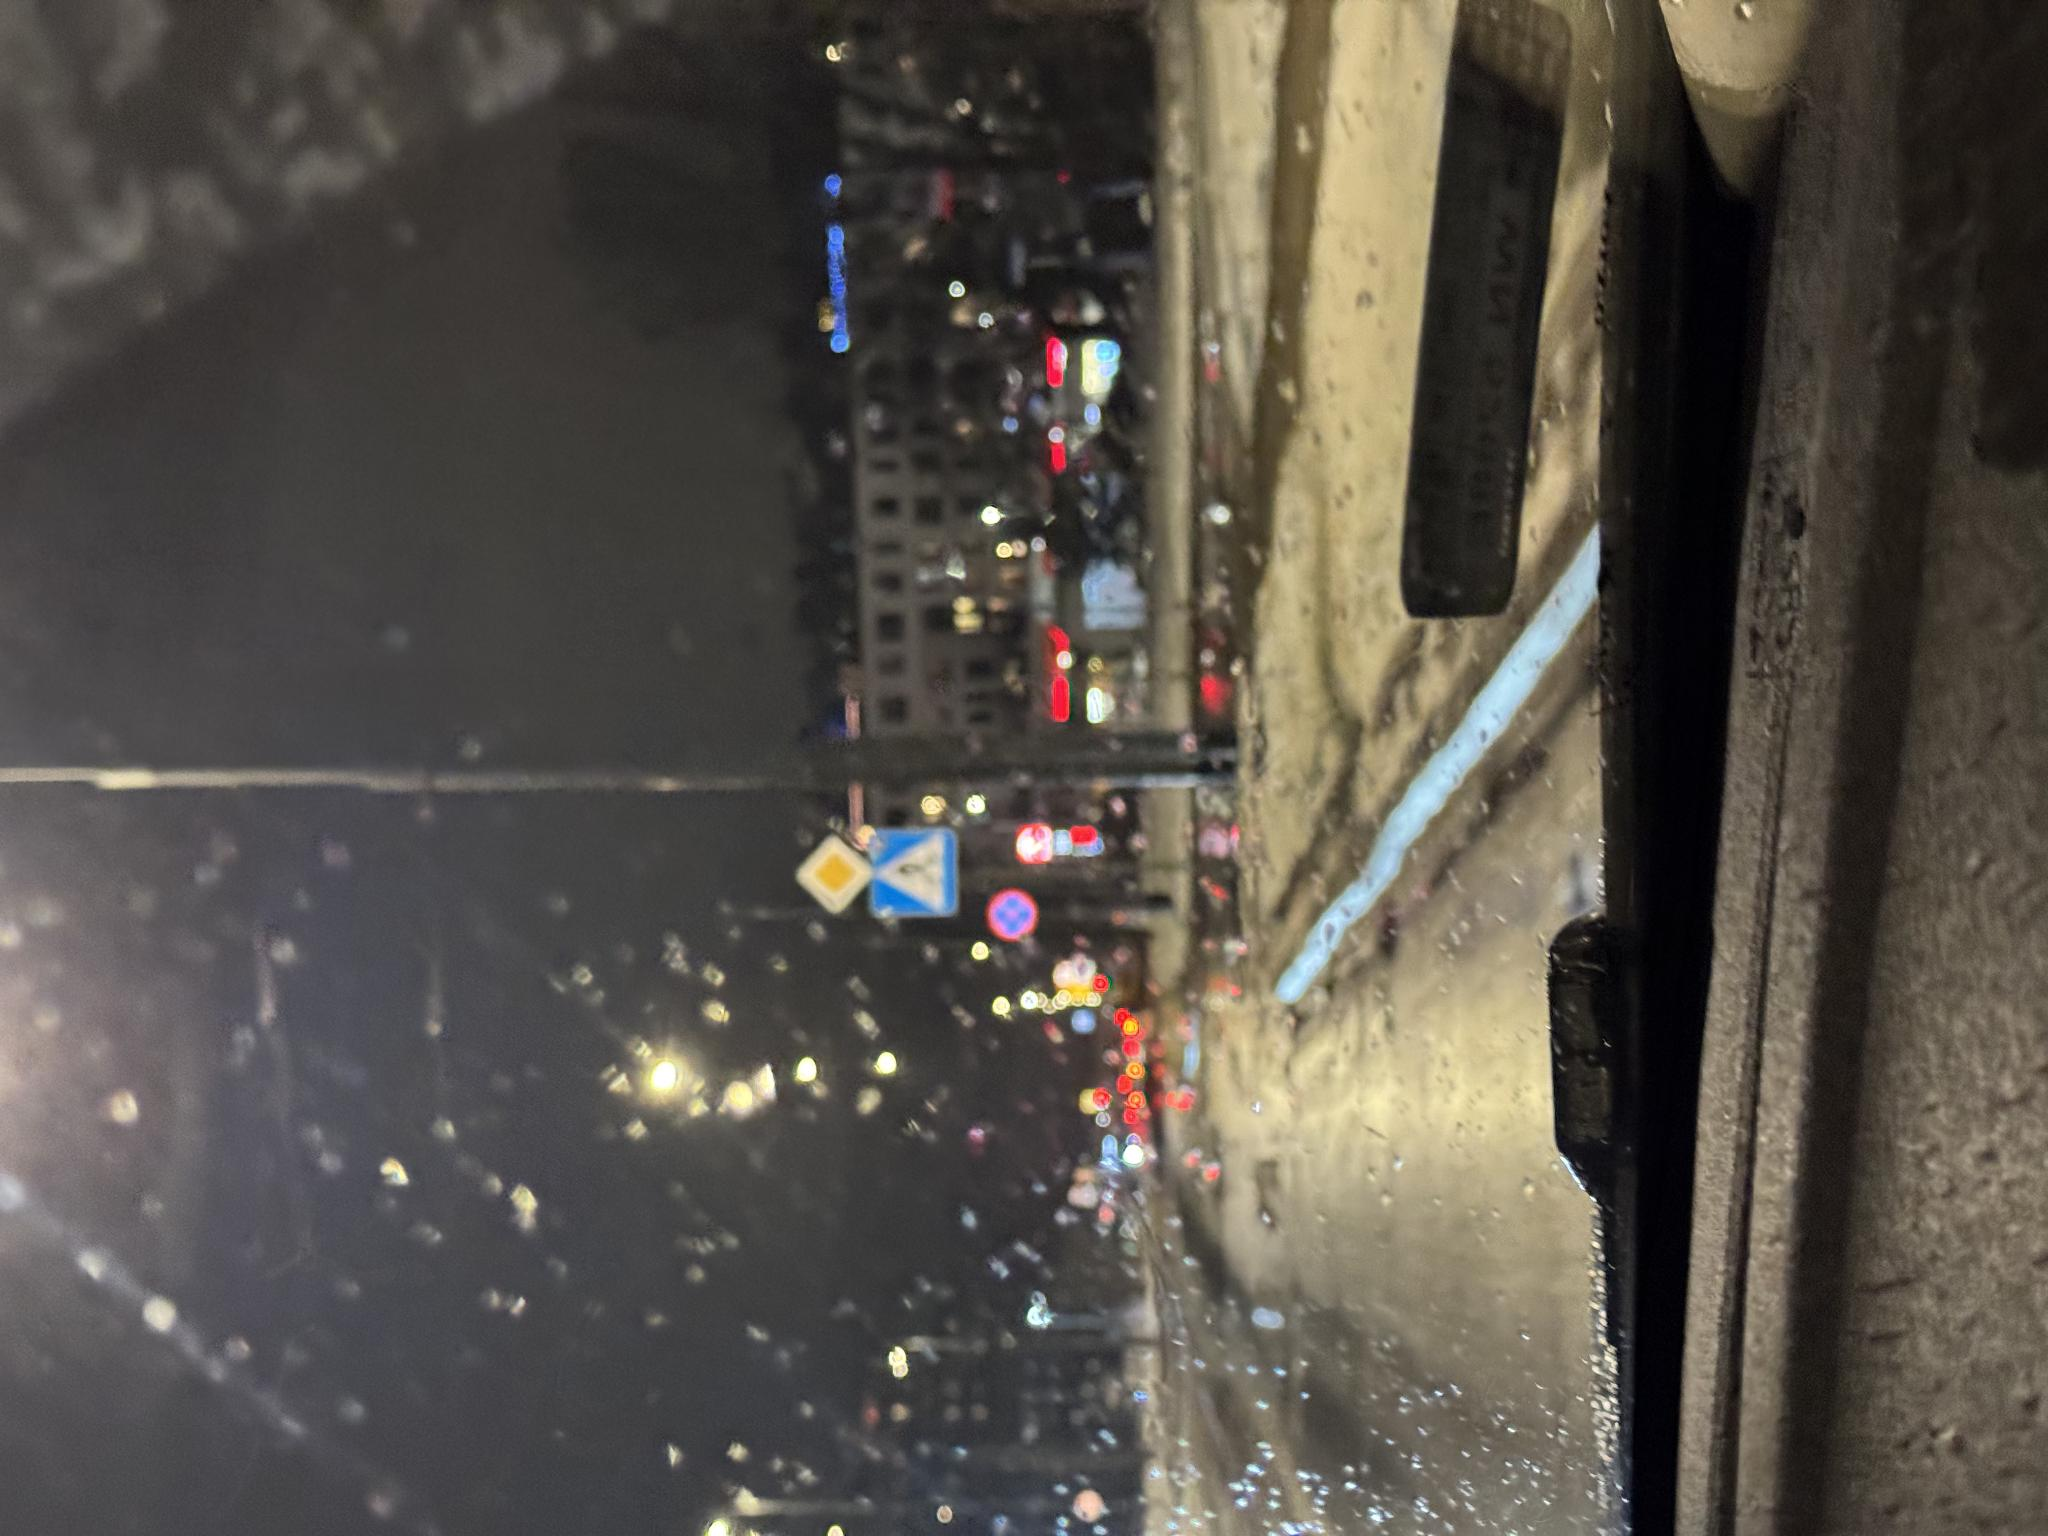information: (619, 871, 710, 958), (621, 795, 705, 873)
prohibitory: (595, 984, 648, 1039)
